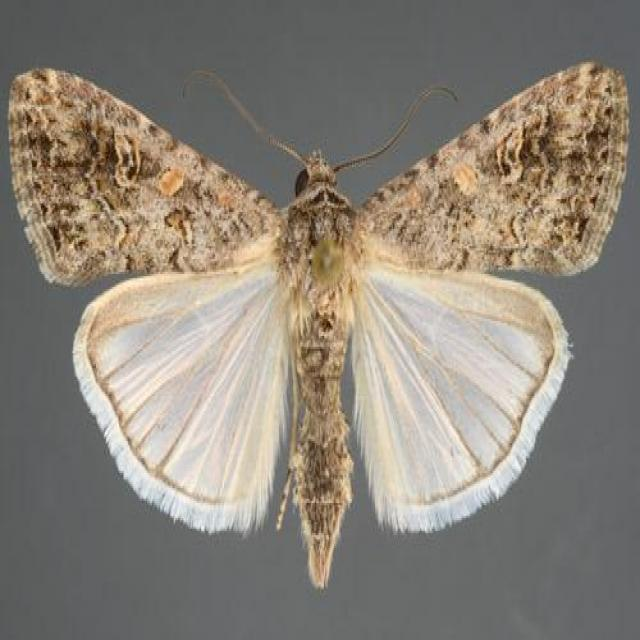BeetArmyWorm-Adult-: (5, 41, 631, 586)
